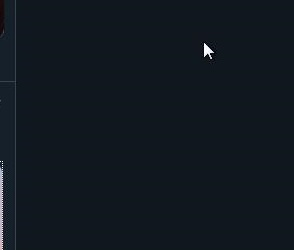cursor: (202, 42, 215, 61)
